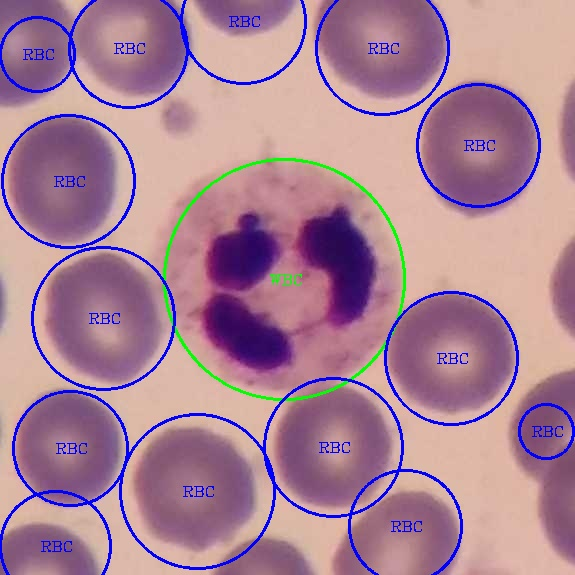RBC: (417, 77, 544, 224), (36, 249, 166, 389), (131, 421, 263, 554), (387, 287, 522, 417), (269, 380, 400, 512), (1, 111, 125, 249), (9, 385, 130, 513), (310, 0, 456, 104), (76, 1, 201, 103), (329, 487, 462, 573), (1, 0, 80, 113), (506, 363, 574, 485)
WBC: (149, 155, 394, 387)
